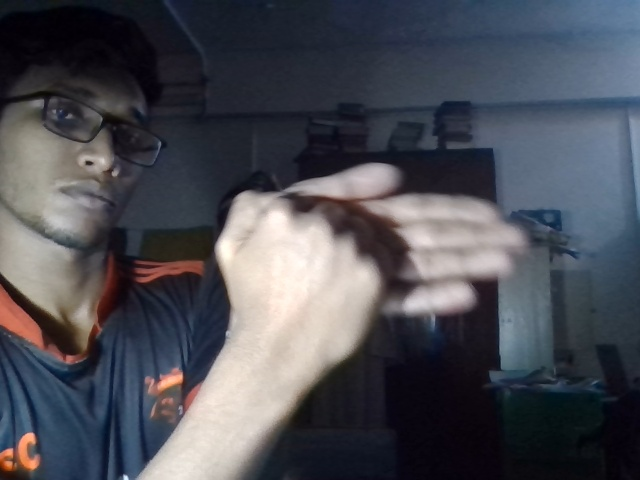b: (194, 151, 536, 353)
